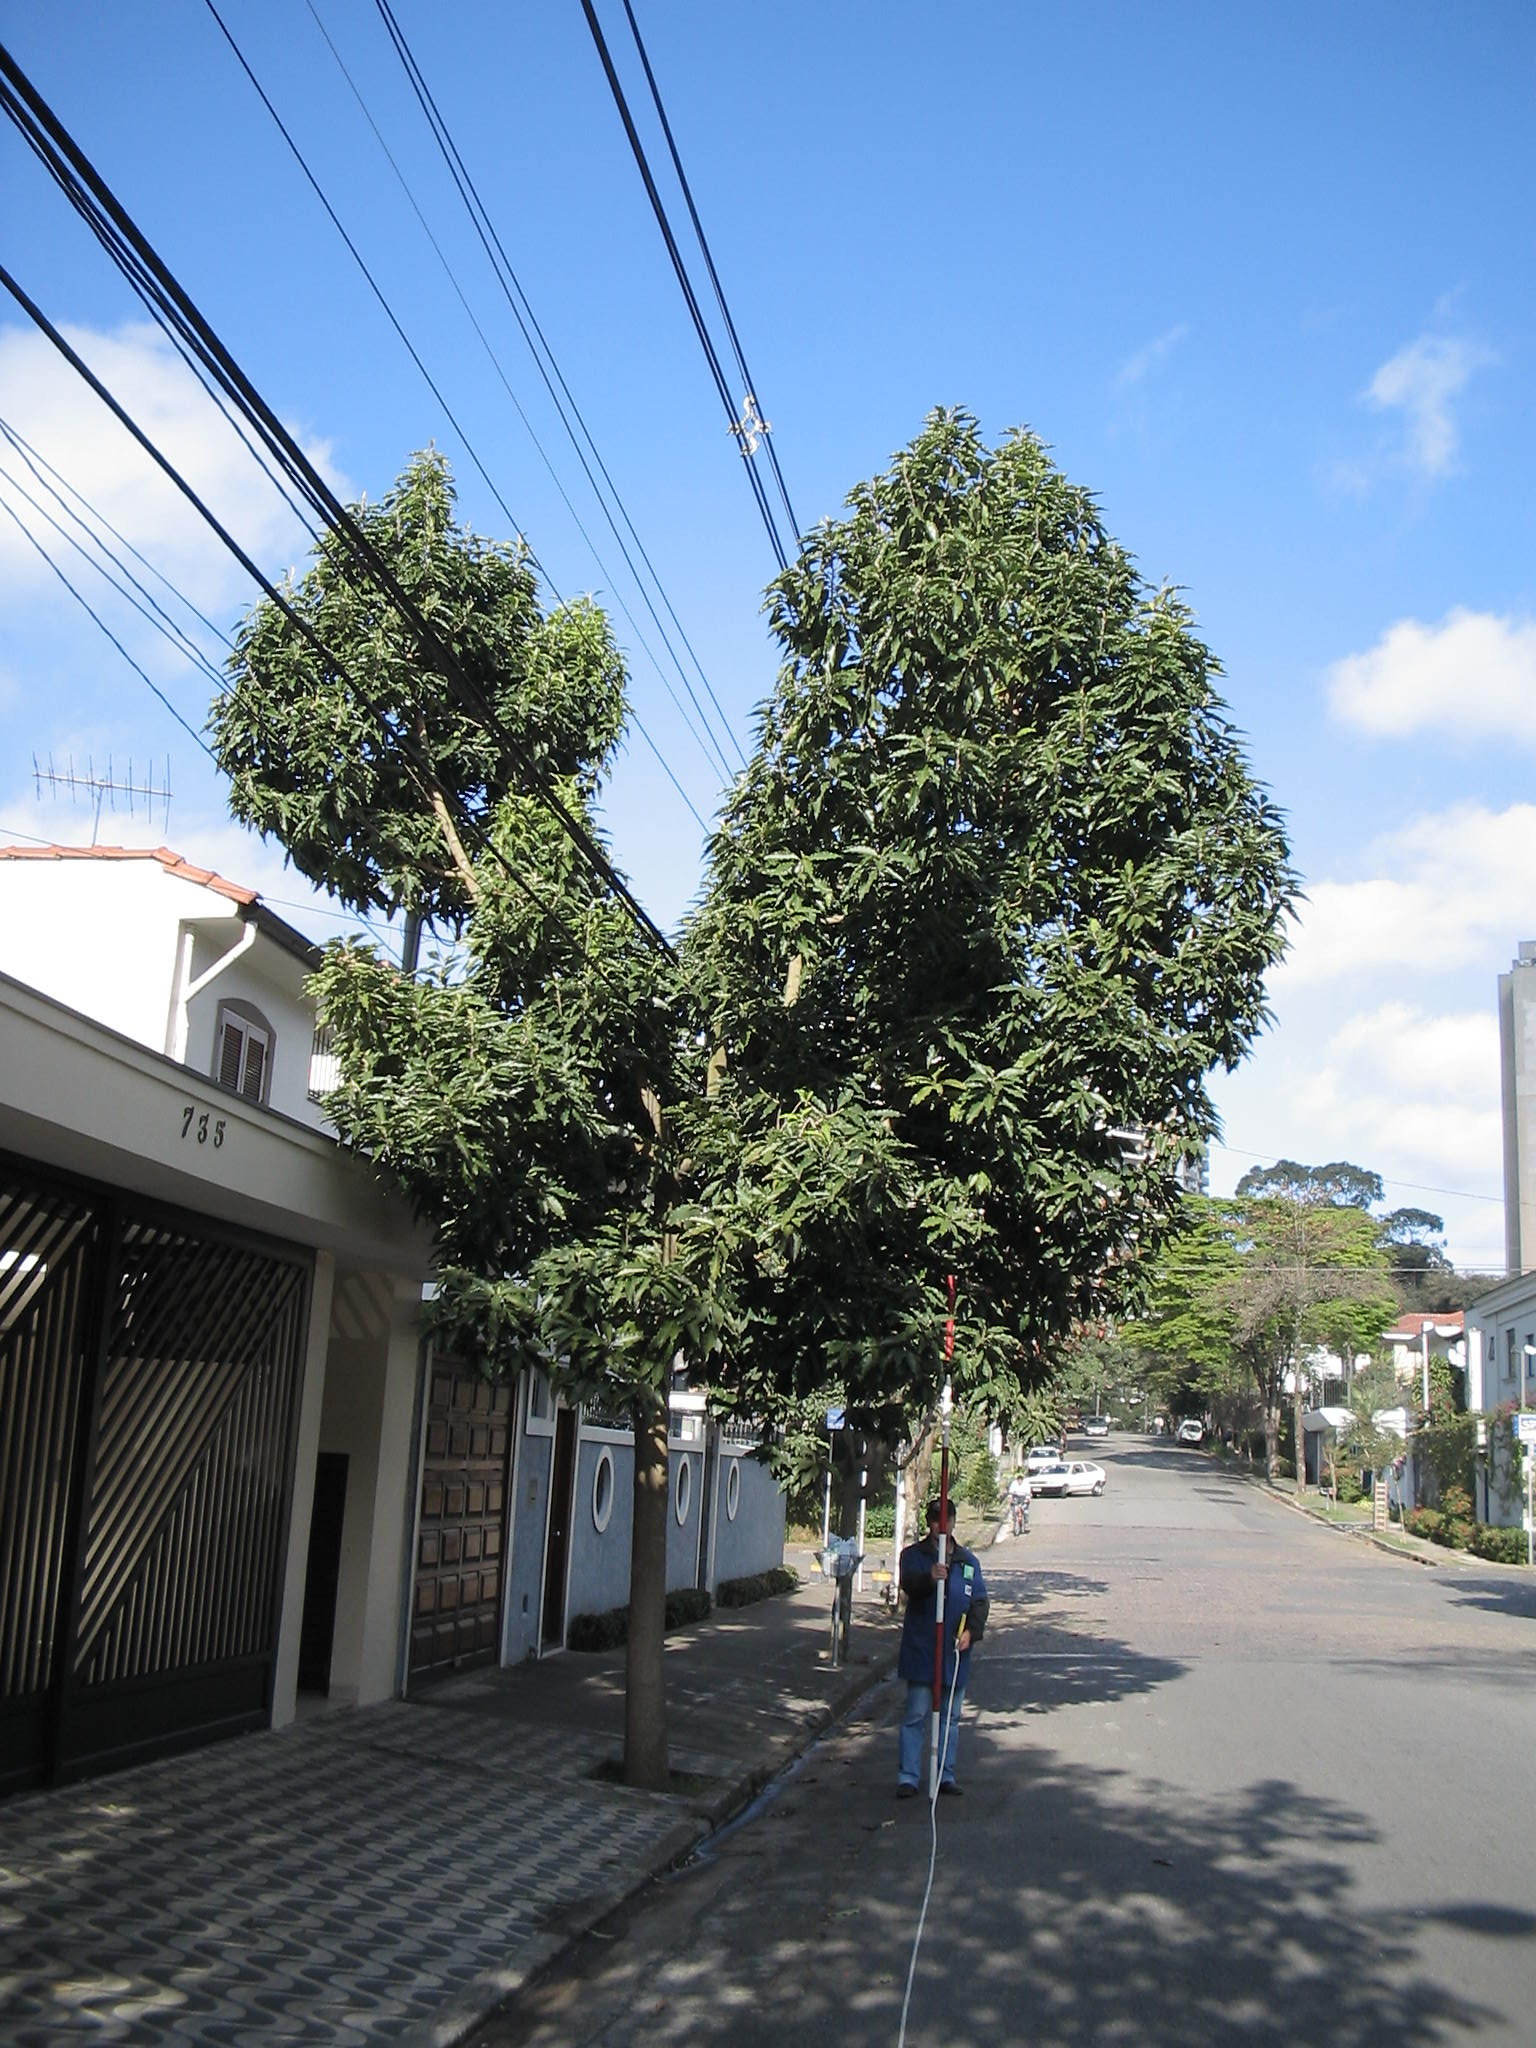crown: (219, 410, 1304, 1455)
stem: (607, 1430, 687, 1785)
stick: (904, 1272, 966, 1803)
tree: (208, 406, 1309, 1790)
